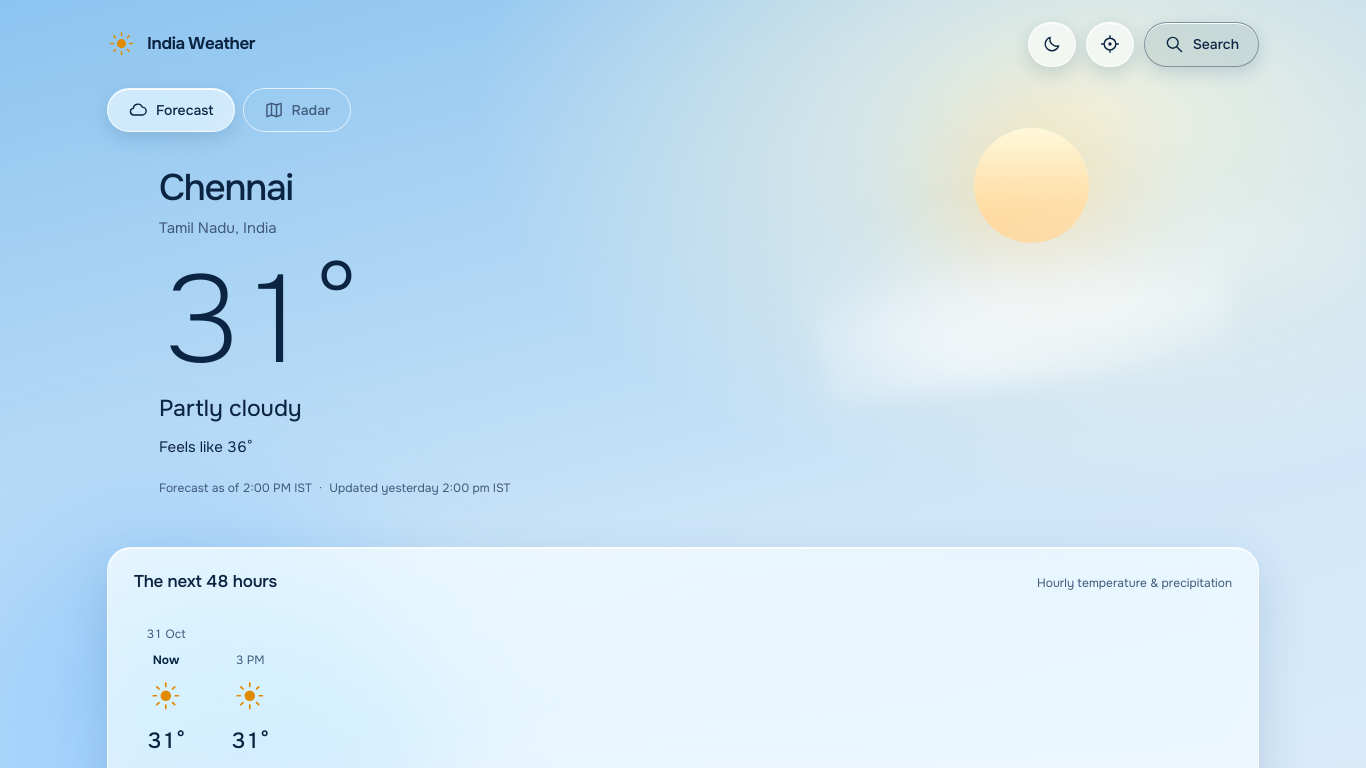
Scenario: App › selects my location on geolocation success
Expected: the text "31°" below "Tamil Nadu, India" is shown, [159,256,354,386]
What coordinates should you click on to do the following:
click the button named "Use my location"
I would click on:
 (1110, 44)
Its box is [1086,22,1134,66].
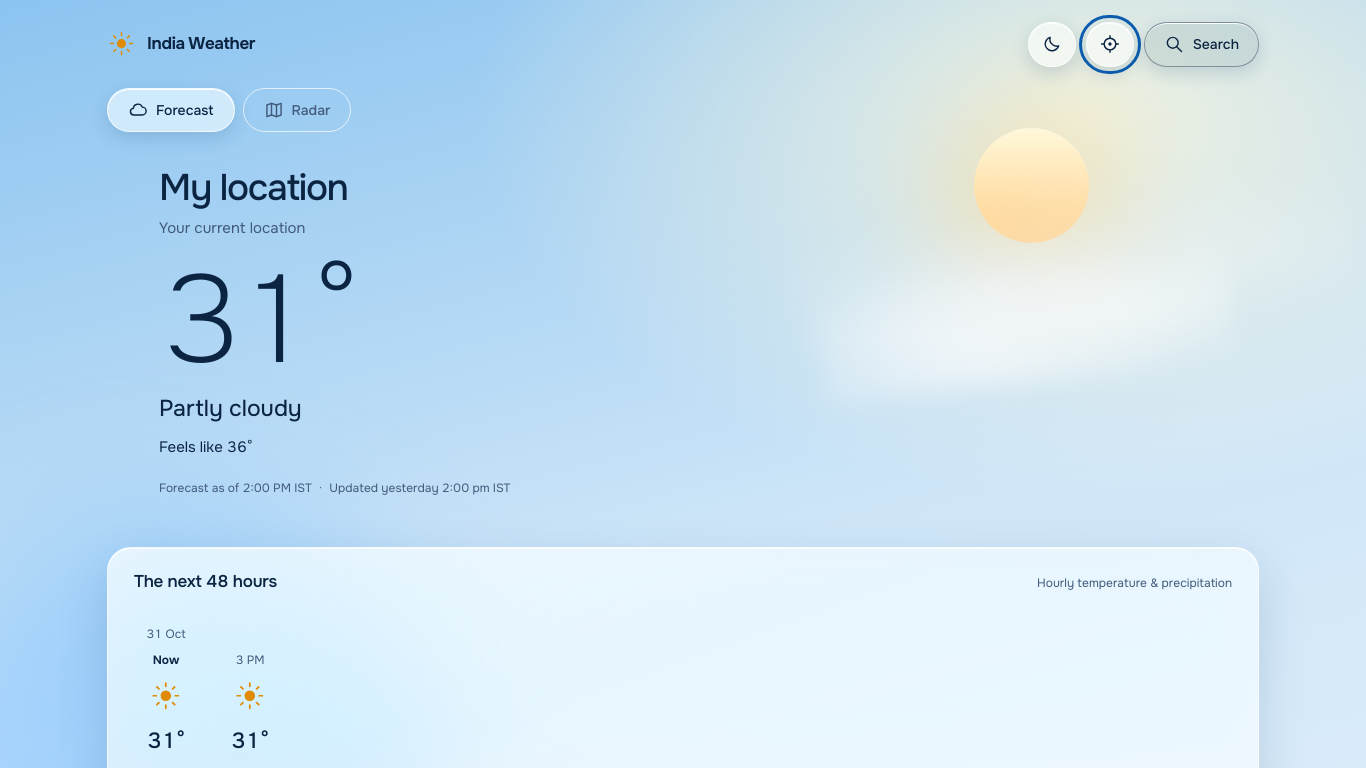
Expected: the heading "My location" is shown, [159,165,348,211]
